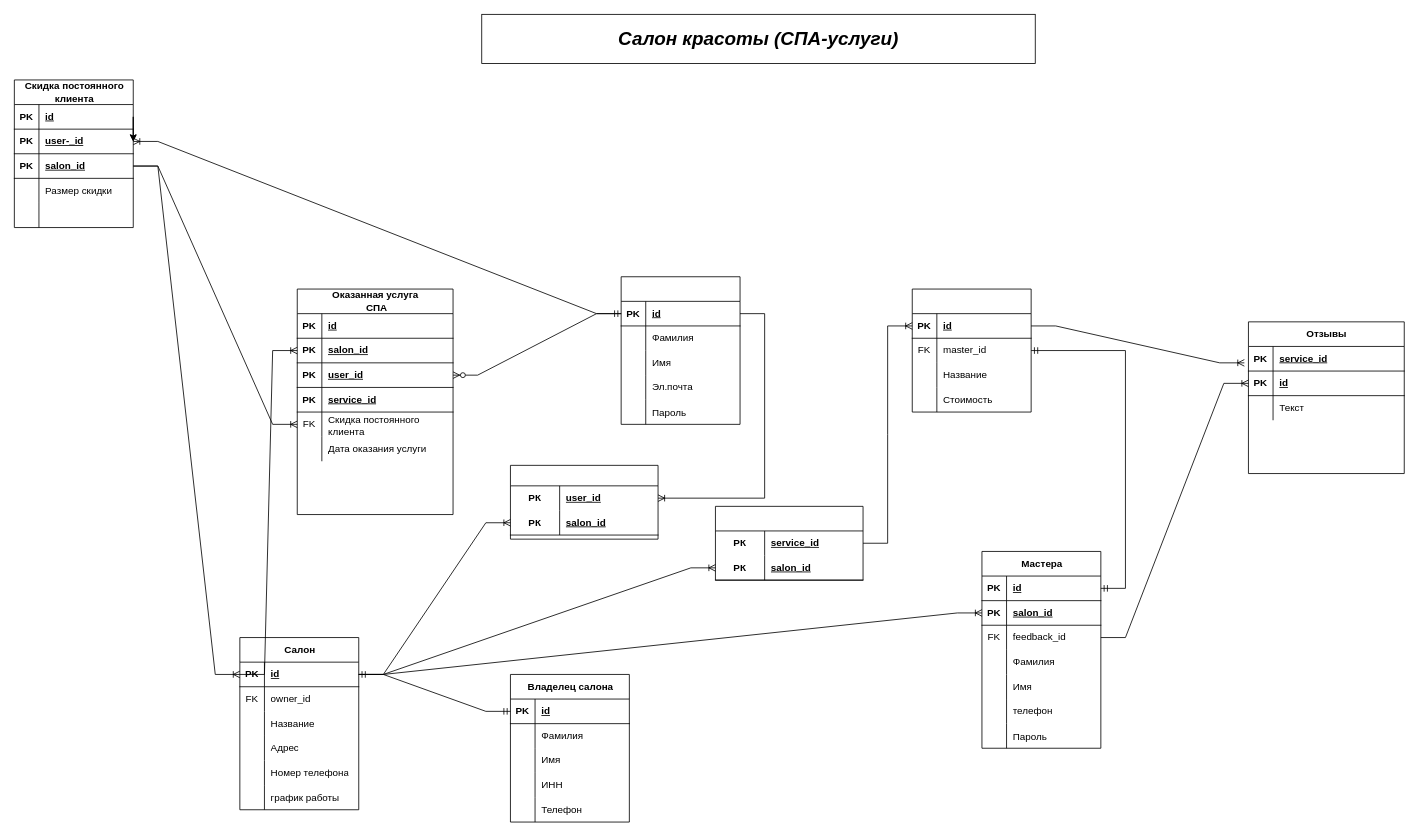
Image size: 1419x836. Some labels were removed from this diagram. Each missing label, with the box of its shape:
Клиенты: (620, 276, 740, 424)
Любимые салоны: (510, 465, 658, 539)
Салон_услуга: (715, 506, 863, 580)
Услуга СПА: (911, 288, 1031, 412)
